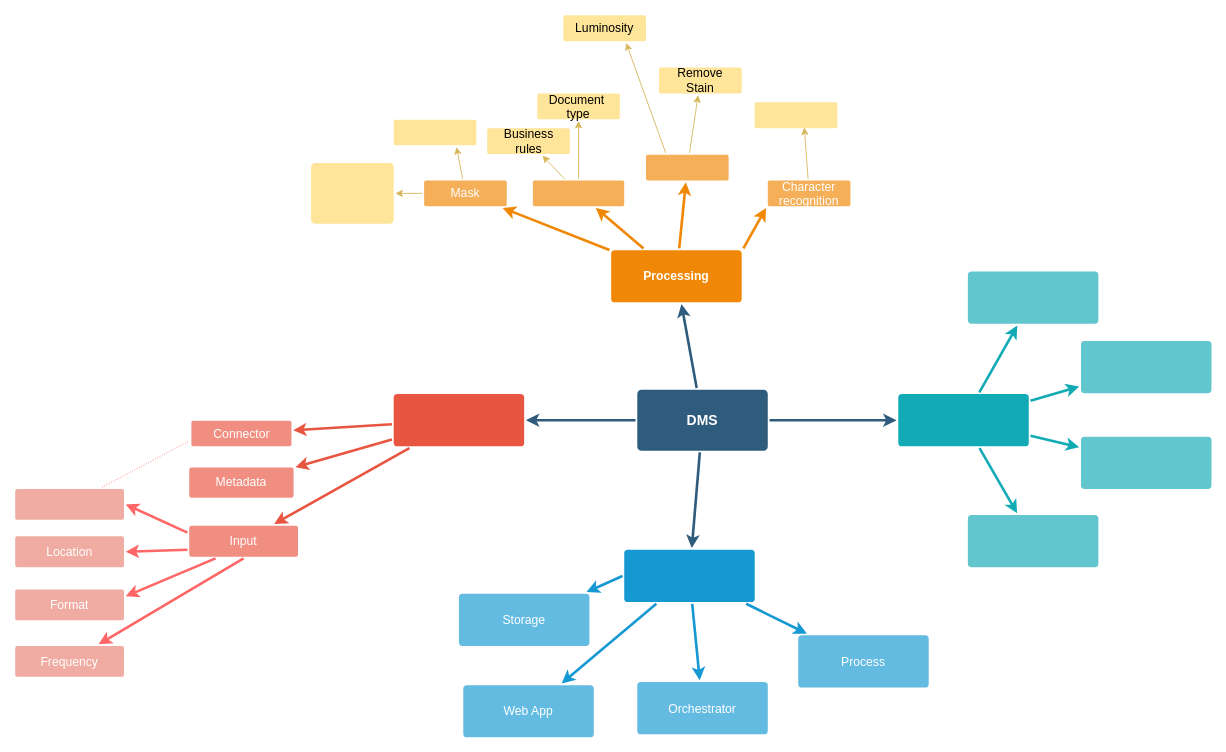
This 1226x752 diagram has some shape labels left out. Here are the shapes that lost their labels. From the top down, the centre of each, then its label:
point (434, 132): Absolute / Relative ?
point (795, 115): Language specific ?
point (687, 167): Image "Cleaning"
point (352, 193): Configuration by Client / Provider/ Document
point (578, 193): Triage / Workflow
point (458, 420): SCAN
point (963, 420): Deliver
point (69, 504): Human / Automatic
point (689, 575): Technology
